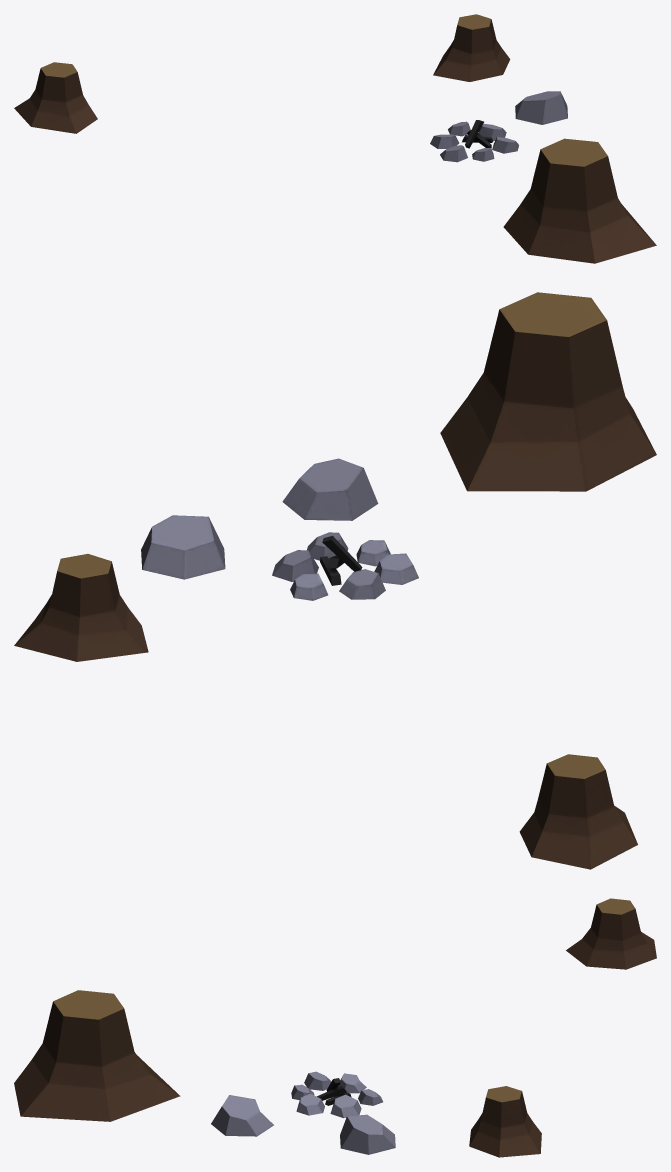
Rendered from waste_1_ruin.fbx.
3 renders of one model, top to bottom at view 1: azimuth 30°, elevation 25°; view 2: azimuth 150°, elevation 25°; view 3: azimuth 270°, elevation 25°, orthographic. The views are drawn at different scales.
Parts seen in each view (by area): view 1: waste_1_ruin; view 2: waste_1_ruin; view 3: waste_1_ruin.
Part boxes in pixels (x1,y1,x2,y2): waste_1_ruin: [14, 14, 656, 263]; waste_1_ruin: [14, 292, 656, 869]; waste_1_ruin: [14, 898, 656, 1157].
Size of the model in its own units: 0.0265 by 0.00485 by 0.0326.
